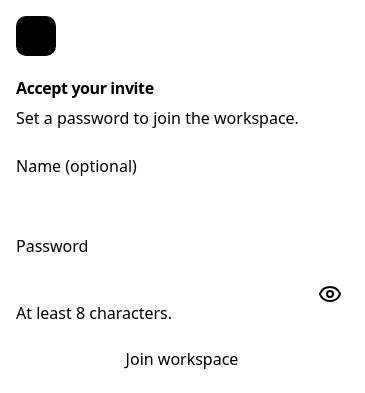
it: LoginForm › offers a plain sign-in link when an invite was already used
Type "supersecret1" into the password field labelled "Password" at (182, 280), box [16,262,348,298]
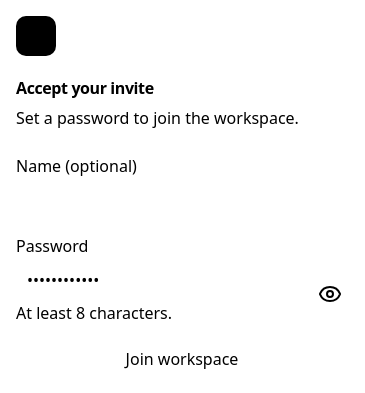
Click the button "Join workspace" at (182, 359), box [16,342,348,376]
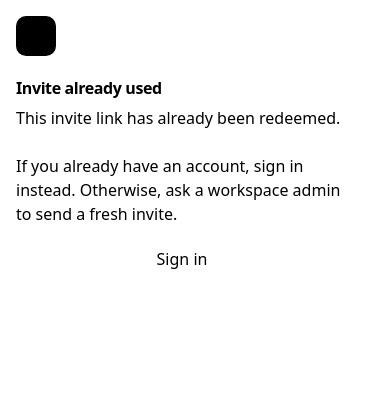
Now the heading "Invite already used" is shown, box [16,77,162,99]
